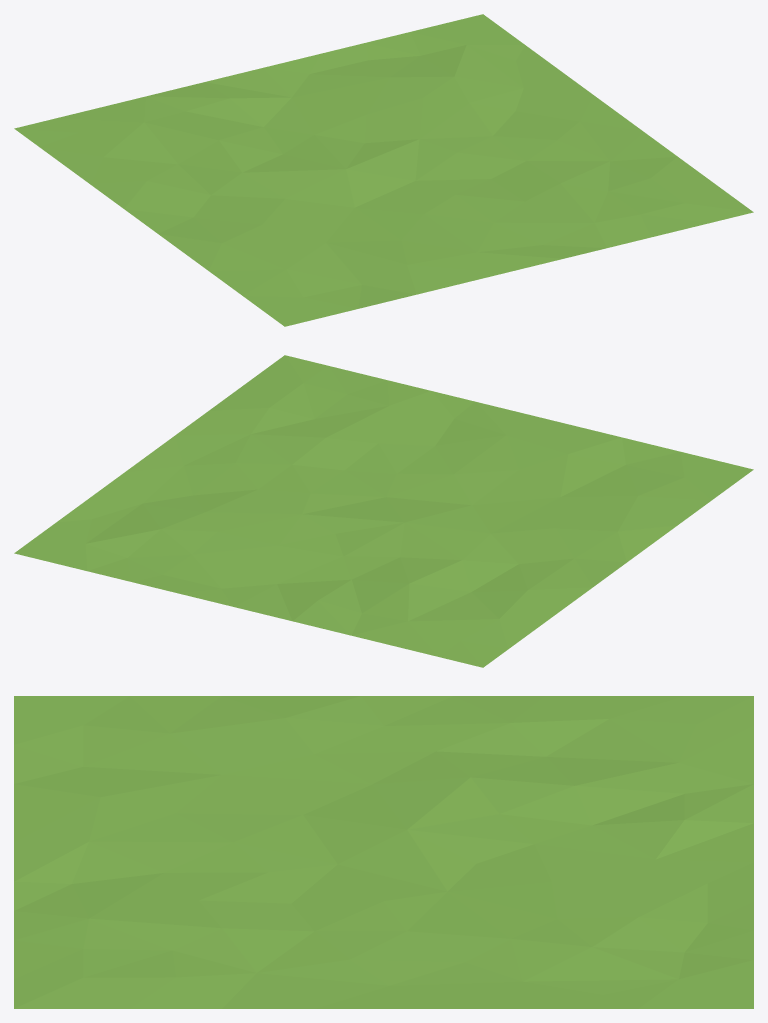
File: MT_Terrain_S_a_02_LOD.fbx
3 renders of one model, top to bottom at view 1: azimuth 30°, elevation 25°; view 2: azimuth 150°, elevation 25°; view 3: azimuth 270°, elevation 25°, orthographic. The views are drawn at different scales.
Visible parts, largest first — view 1: MT_Terrain_S_a_02_LOD0; view 2: MT_Terrain_S_a_02_LOD0; view 3: MT_Terrain_S_a_02_LOD0.
Part boxes in pixels (x1,y1,x2,y2): MT_Terrain_S_a_02_LOD0: (14, 14, 753, 326); MT_Terrain_S_a_02_LOD0: (14, 355, 753, 667); MT_Terrain_S_a_02_LOD0: (14, 696, 753, 1008).
Size of what is drawn, in the model's own units: 2500 by 20 by 2500.
